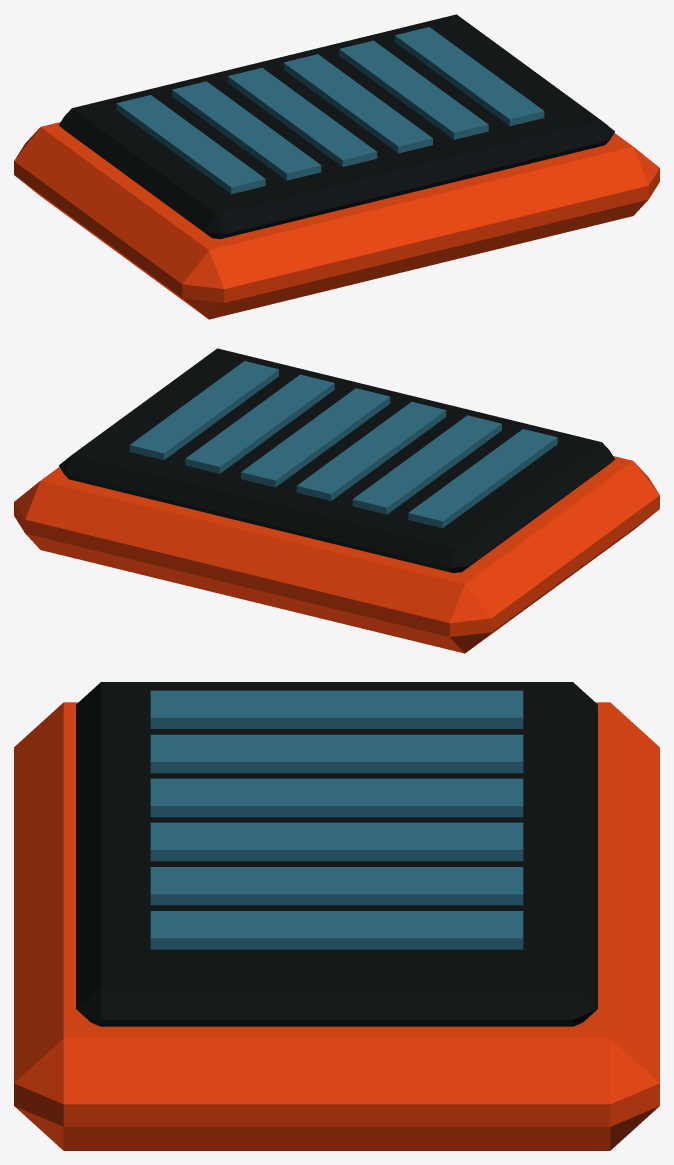
File: SM_MP_Data_Pad.fbx
The picture shows the model from 3 angles, top to bottom: view 1: azimuth 30°, elevation 25°; view 2: azimuth 150°, elevation 25°; view 3: azimuth 270°, elevation 25°; orthographic projection. The views are drawn at different scales.
Parts seen in each view (by area): view 1: SM_MP_Data_Pad; view 2: SM_MP_Data_Pad; view 3: SM_MP_Data_Pad.
Part boxes in pixels (x1=…): SM_MP_Data_Pad: x1=14, y1=14, x2=659, y2=319; SM_MP_Data_Pad: x1=14, y1=348, x2=659, y2=653; SM_MP_Data_Pad: x1=14, y1=682, x2=659, y2=1150.
Size of the model in its own units: 36 by 26 by 7.25.
Materials: 1 (1 with a texture image).
